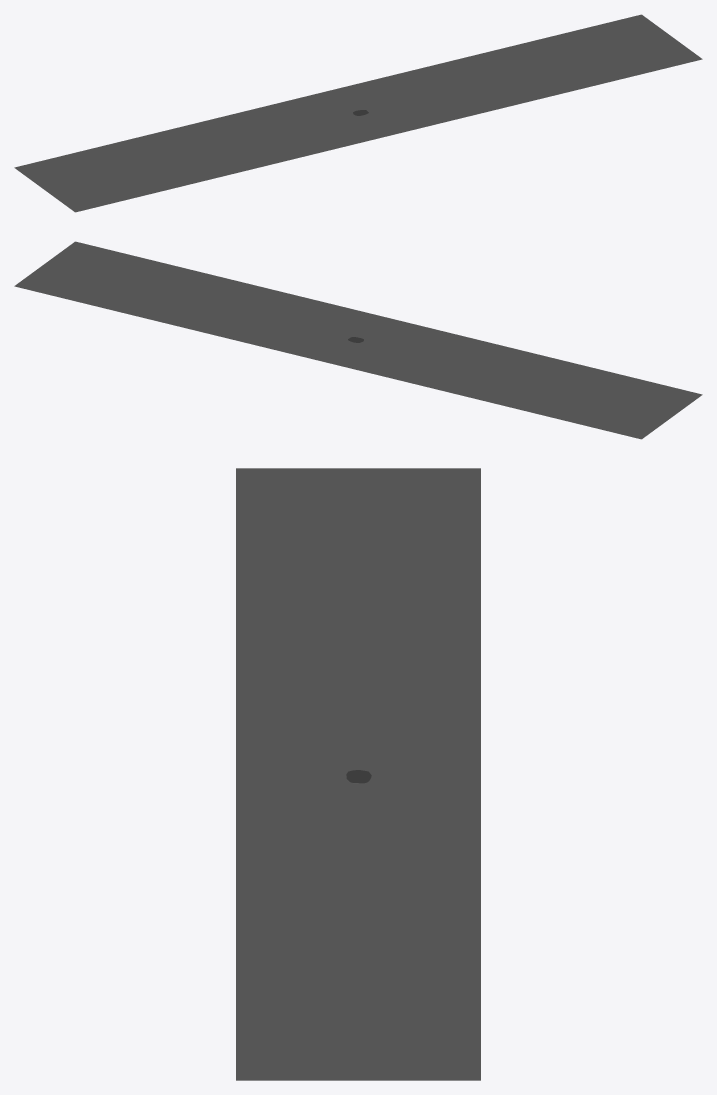
Rendered from road1.fbx.
3 views of the same model, one above another, from view 1: azimuth 30°, elevation 25°; view 2: azimuth 150°, elevation 25°; view 3: azimuth 270°, elevation 25° (orthographic). The views are drawn at different scales.
Parts seen in each view (by area): view 1: Road1; view 2: Road1; view 3: Road1.
Boxes of the visible parts, left/top/right/bottom form: Road1: left=14, top=14, right=702, bottom=212; Road1: left=14, top=241, right=702, bottom=439; Road1: left=236, top=468, right=480, bottom=1080.
Bounding box in the file's own units: 52.98 × 0.7537 × 8.96.
